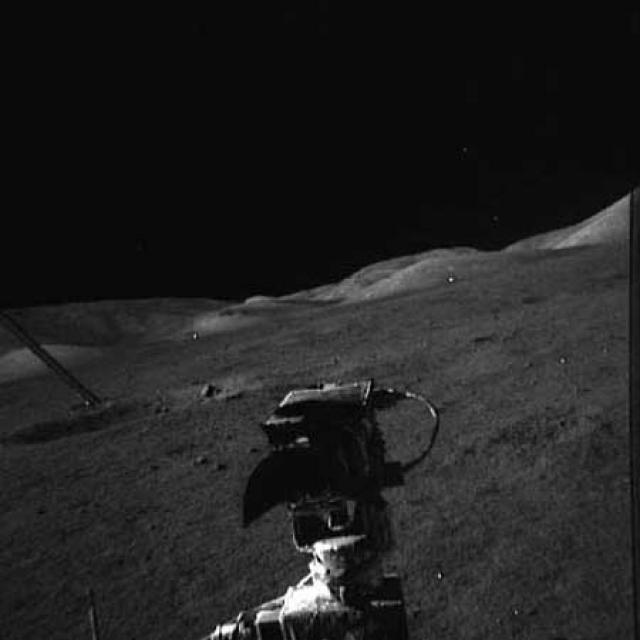artifact: (203, 370, 458, 638)
crater: (6, 371, 260, 435), (266, 347, 502, 398), (482, 394, 602, 460)
